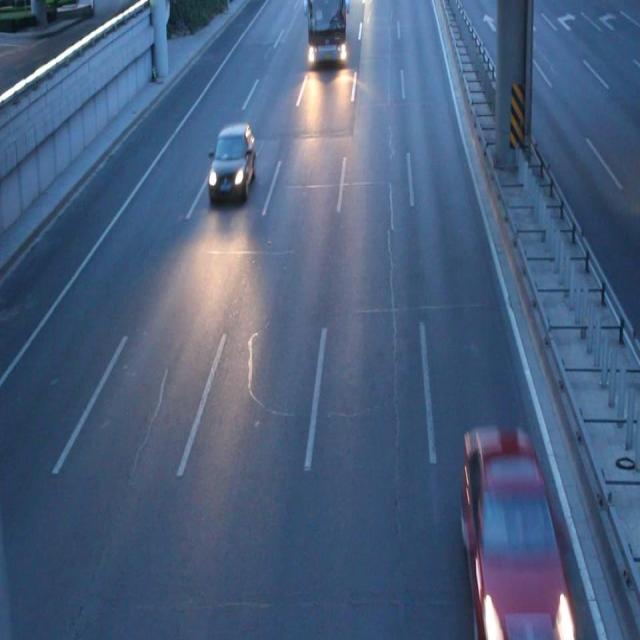car: (459, 432, 572, 630), (208, 123, 255, 205)
van: (304, 1, 348, 68)
